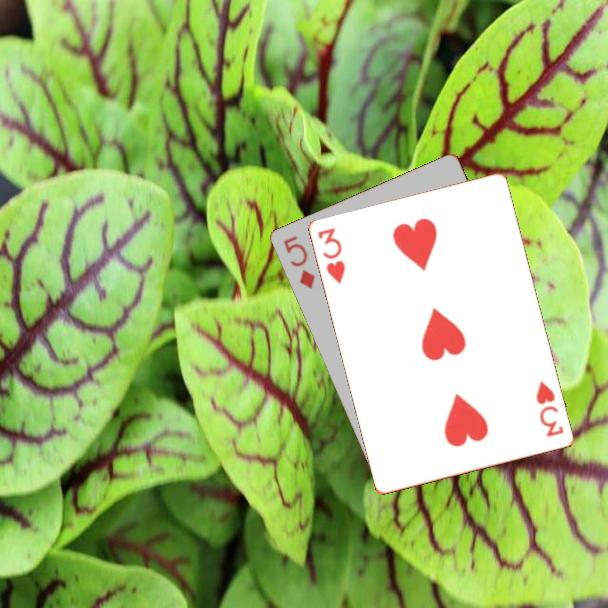d05: (280, 232, 318, 292)
h03: (314, 224, 348, 287), (533, 378, 567, 440)
